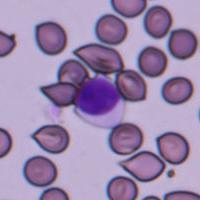L: (74, 75, 125, 128)
